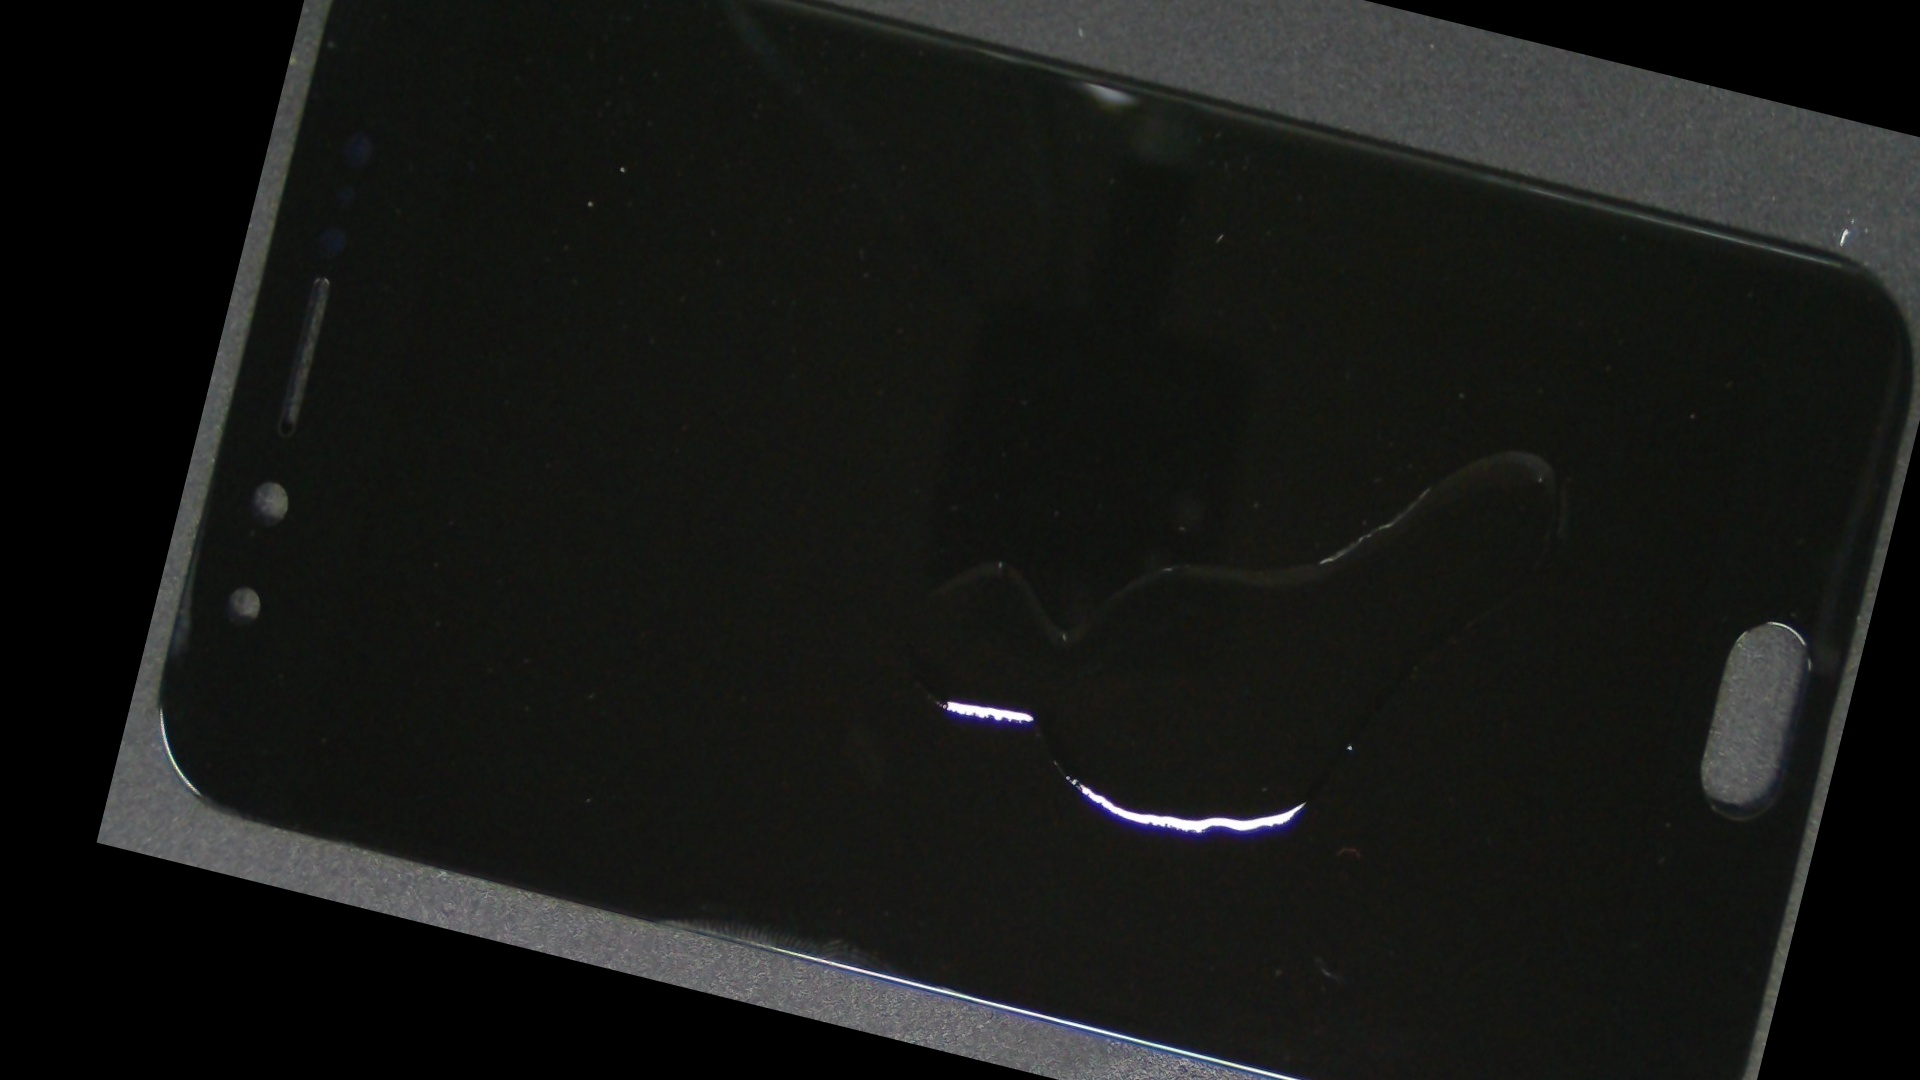oil: (848, 103, 1920, 740)
